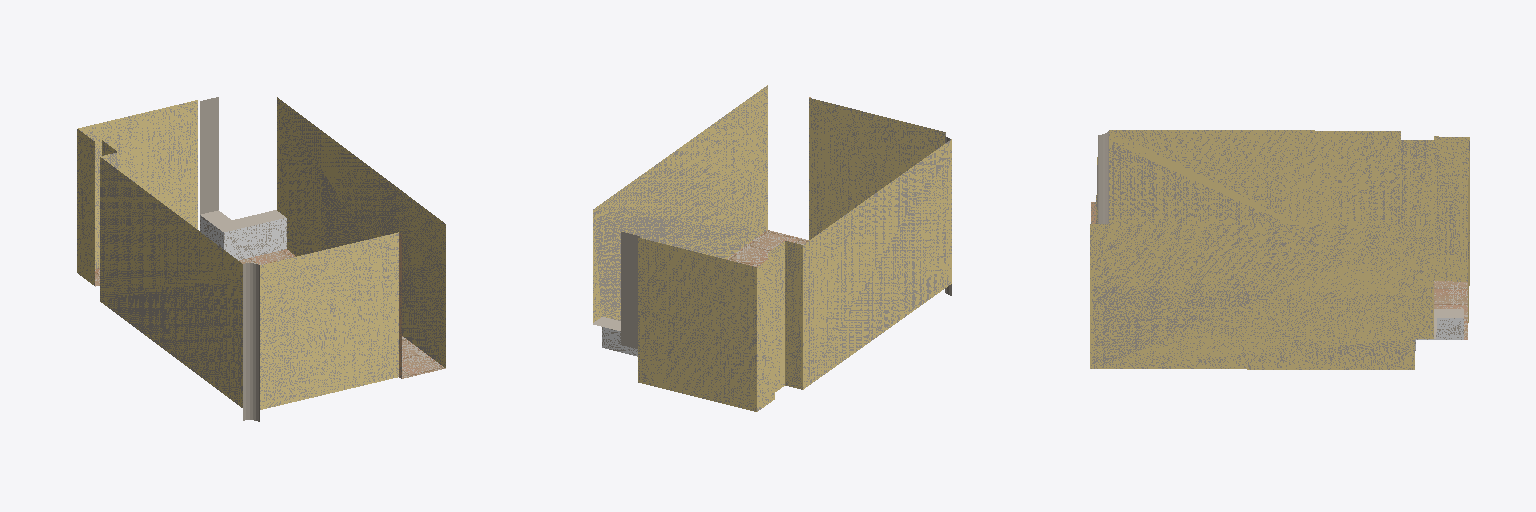
3 renders of one model, left to right at view 1: azimuth 30°, elevation 25°; view 2: azimuth 150°, elevation 25°; view 3: azimuth 270°, elevation 25°, orthographic.
Visible parts, largest first — view 1: Mesh1 DES021 Model; view 2: Mesh1 DES021 Model; view 3: Mesh1 DES021 Model.
Part boxes in pixels (x1,y1,x2,y2): Mesh1 DES021 Model: (77,97,445,421); Mesh1 DES021 Model: (593,85,951,411); Mesh1 DES021 Model: (1090,130,1469,369).
Size of the model in its own units: 4.26 by 3.25 by 7.11.
Materials: 5 (1 with a texture image).